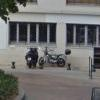Motorcycle: (40, 44, 71, 73)
